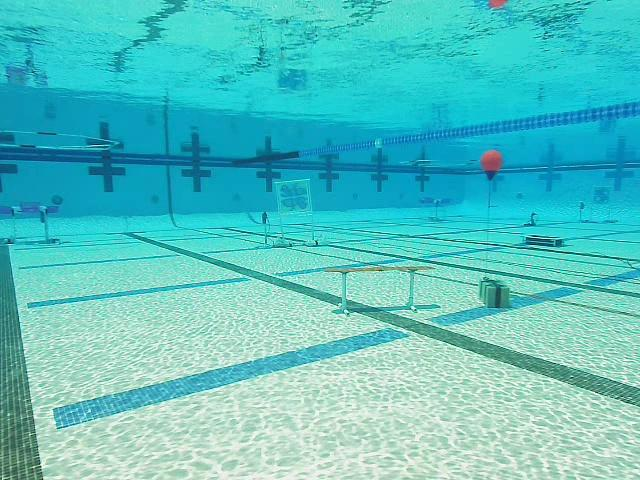buoy: (482, 151, 502, 182)
torpedo: (275, 179, 311, 215)
